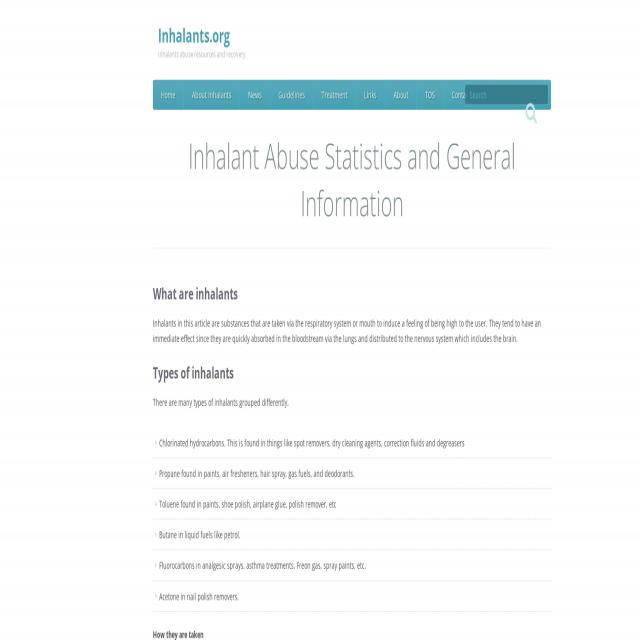button: (184, 80, 240, 110), (271, 80, 313, 110), (314, 80, 356, 110), (153, 80, 183, 110), (240, 80, 270, 110), (386, 80, 416, 110), (356, 80, 385, 110), (417, 80, 443, 110), (443, 80, 465, 110), (524, 100, 539, 129)
field: (465, 85, 549, 105)
